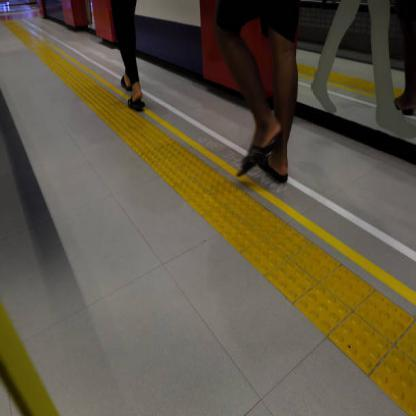podotacti: (5, 21, 415, 416)
